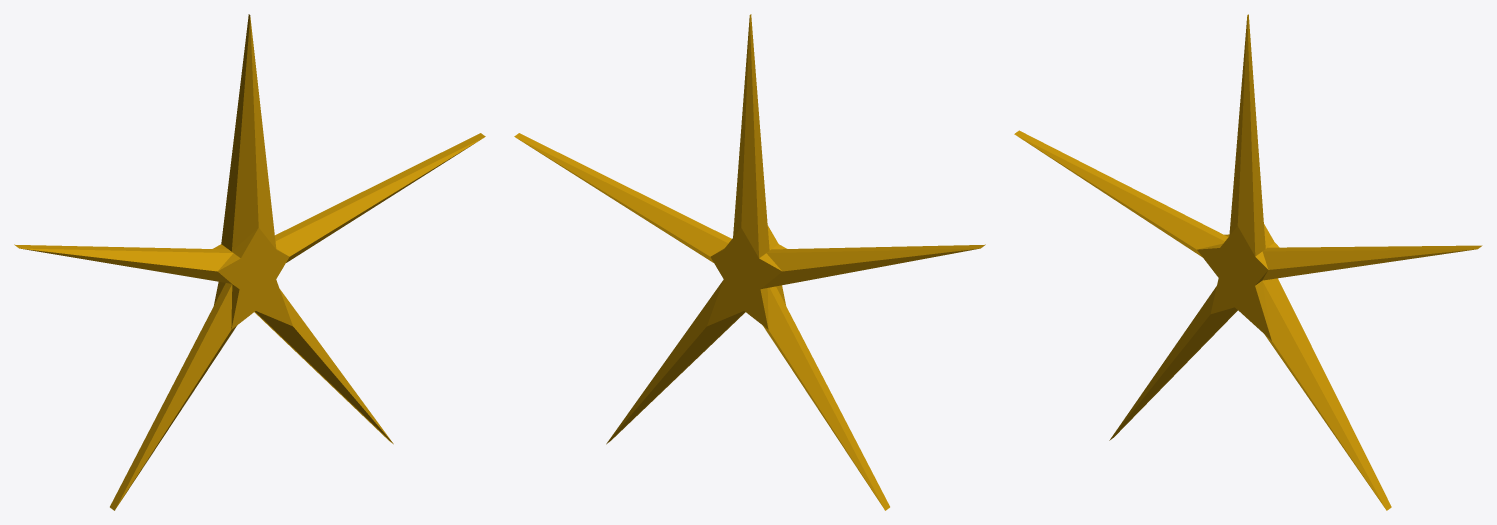
Rendered from sparkle.obj.
3 renders of one model, left to right at view 1: azimuth 30°, elevation 25°; view 2: azimuth 150°, elevation 25°; view 3: azimuth 330°, elevation 25°, orthographic.
Parts seen in each view (by area): view 1: single_centered_triforce_piece.001; view 2: single_centered_triforce_piece.001; view 3: single_centered_triforce_piece.001.
Boxes of the visible parts, x1,y1,x2,y2 form: single_centered_triforce_piece.001: (14, 14, 485, 510); single_centered_triforce_piece.001: (514, 14, 985, 510); single_centered_triforce_piece.001: (1014, 14, 1482, 510).
Bounding box in the file's own units: 0.9625 × 0.9126 × 0.07.
